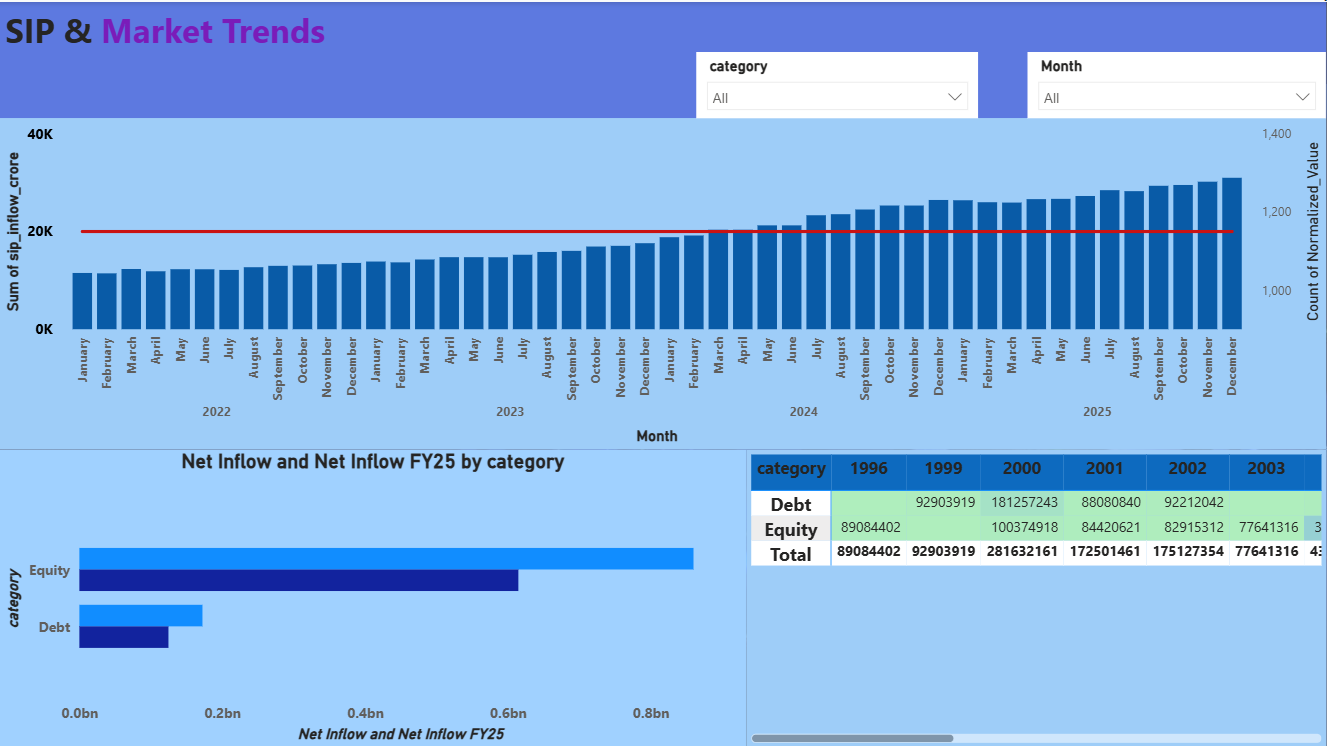

What the dashboard file says about the page in this screenshot:
{"tool":"powerbi","page":{"name":"SIP & Market Trends.","canvas":[1280,720],"ordinal":4},"visuals":[{"type":"lineClusteredColumnComboChart","fields":{"Y":["Sum(monthly_sip_inflows.sip_inflow_crore)"],"Y2":["CountNonNull(normalized_benchmark_performance.Normalized_Value)"],"Category":["monthly_sip_inflows.month.Variation.Date Hierarchy.Year","monthly_sip_inflows.month.Variation.Date Hierarchy.Month"]},"box":[0,80,1280,352],"z":0},{"type":"pivotTable","fields":{"Rows":["fund_master.category"],"Columns":["fund_master.launch_date.Variation.Date Hierarchy.Year"],"Values":["Sum(Investor_Transaction.amount_inr)"]},"box":[720,432,560,288],"z":1000},{"type":"clusteredBarChart","fields":{"Category":["fund_master.category"],"Y":["fund_master.Net Inflow","fund_master.Net Inflow FY25"]},"box":[0,436.9,725.6,282.8],"z":2000},{"type":"textbox","box":[0,0,1280,112],"z":3000},{"type":"slicer","fields":{"Values":["Scheme_Performance.category"]},"box":[672,48,272,64],"z":5001},{"type":"slicer","fields":{"Values":["DateTable.Month"]},"box":[976,48,304,64],"z":5002}]}

Visuals, with their boxes in screenshot pixels (x1, y1, x2, y2), scaled from the page's 1280x720 canvas onto the 1327x746 screenshot:
lineClusteredColumnComboChart - Sum(monthly_sip_inflows.sip_inflow_crore) x CountNonNull(normalized_benchmark_performance.Normalized_Value): bbox(0, 83, 1326, 448)
pivotTable - fund_master.category x fund_master.launch_date.Variation.Date Hierarchy.Year: bbox(746, 448, 1326, 745)
clusteredBarChart - fund_master.category x fund_master.Net Inflow: bbox(0, 453, 752, 745)
textbox: bbox(0, 0, 1326, 116)
slicer - Scheme_Performance.category: bbox(697, 50, 979, 116)
slicer - DateTable.Month: bbox(1012, 50, 1326, 116)
